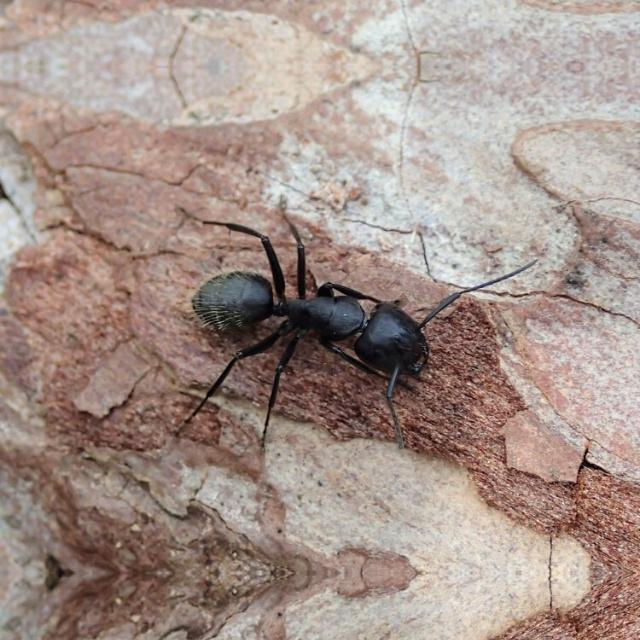Camponotus: (162, 213, 444, 399)
